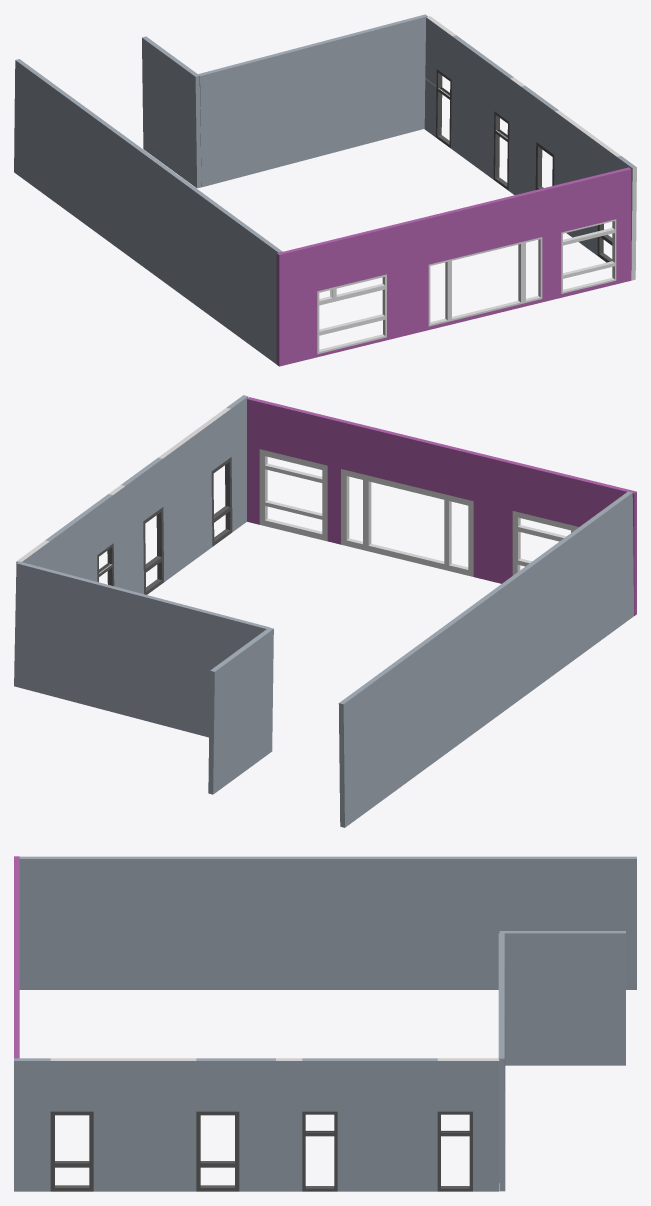
Rendered from EstructuraMedios.fbx.
3 renders of one model, top to bottom at view 1: azimuth 30°, elevation 25°; view 2: azimuth 150°, elevation 25°; view 3: azimuth 270°, elevation 25°, orthographic. The views are drawn at different scales.
Visible parts, largest first — view 1: Estructura Medios; view 2: Estructura Medios; view 3: Estructura Medios.
Boxes of the visible parts, x1,y1,x2,y2 form: Estructura Medios: [14, 14, 636, 366]; Estructura Medios: [14, 395, 636, 827]; Estructura Medios: [14, 856, 636, 1191].
Size of the model in its own units: 7773 by 2416 by 9985.
